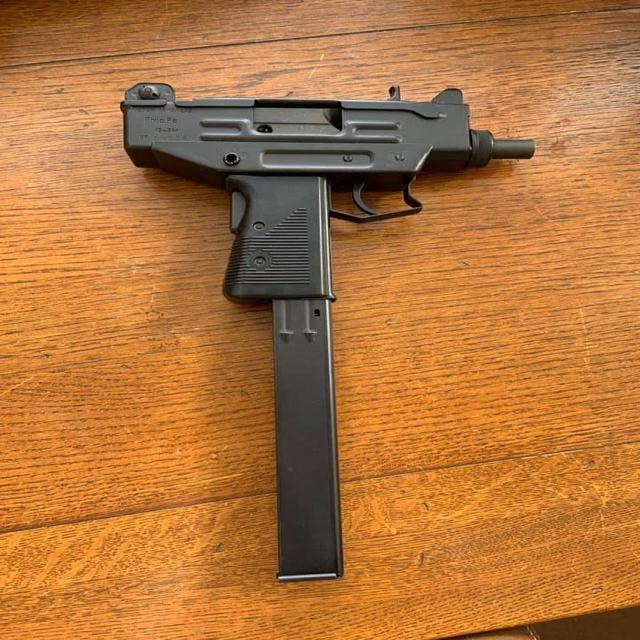SMG: (120, 83, 536, 584)
